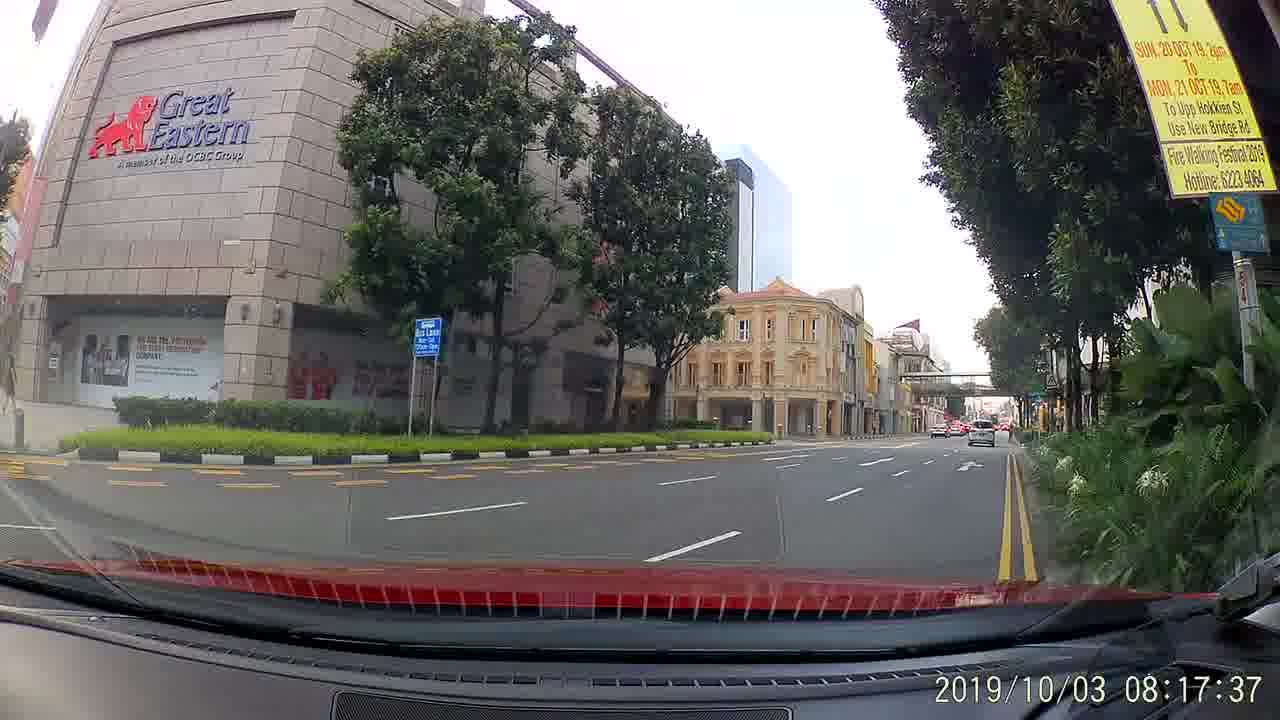car: (966, 416, 997, 454), (929, 416, 951, 442), (948, 419, 963, 437)
